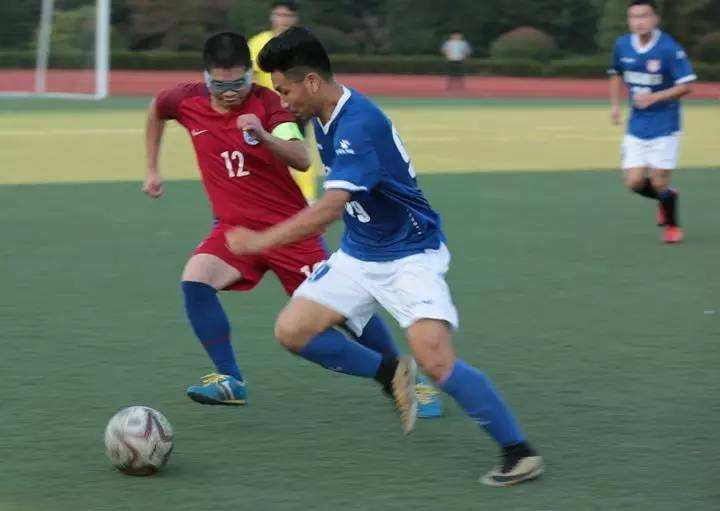football: (101, 405, 178, 477)
